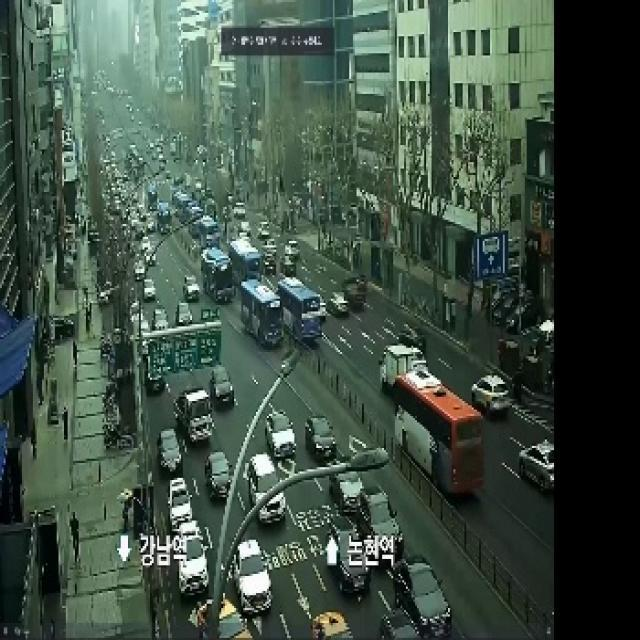bus: (394, 366, 484, 494), (240, 278, 321, 346), (201, 248, 234, 303), (229, 239, 262, 284), (458, 420, 481, 447)
car: (394, 559, 451, 638), (358, 488, 404, 567), (234, 540, 271, 614), (519, 440, 554, 491), (179, 538, 209, 595), (471, 375, 511, 416), (249, 454, 278, 504), (305, 416, 336, 462), (266, 411, 295, 460), (206, 451, 231, 500), (169, 478, 192, 528), (314, 611, 352, 640), (210, 366, 235, 408), (219, 599, 245, 638), (258, 494, 286, 524), (281, 240, 299, 276), (326, 292, 349, 317), (152, 308, 169, 329), (176, 302, 192, 324)
lorry: (380, 344, 425, 392), (175, 388, 214, 443)
pedestrian: (70, 512, 79, 562)
